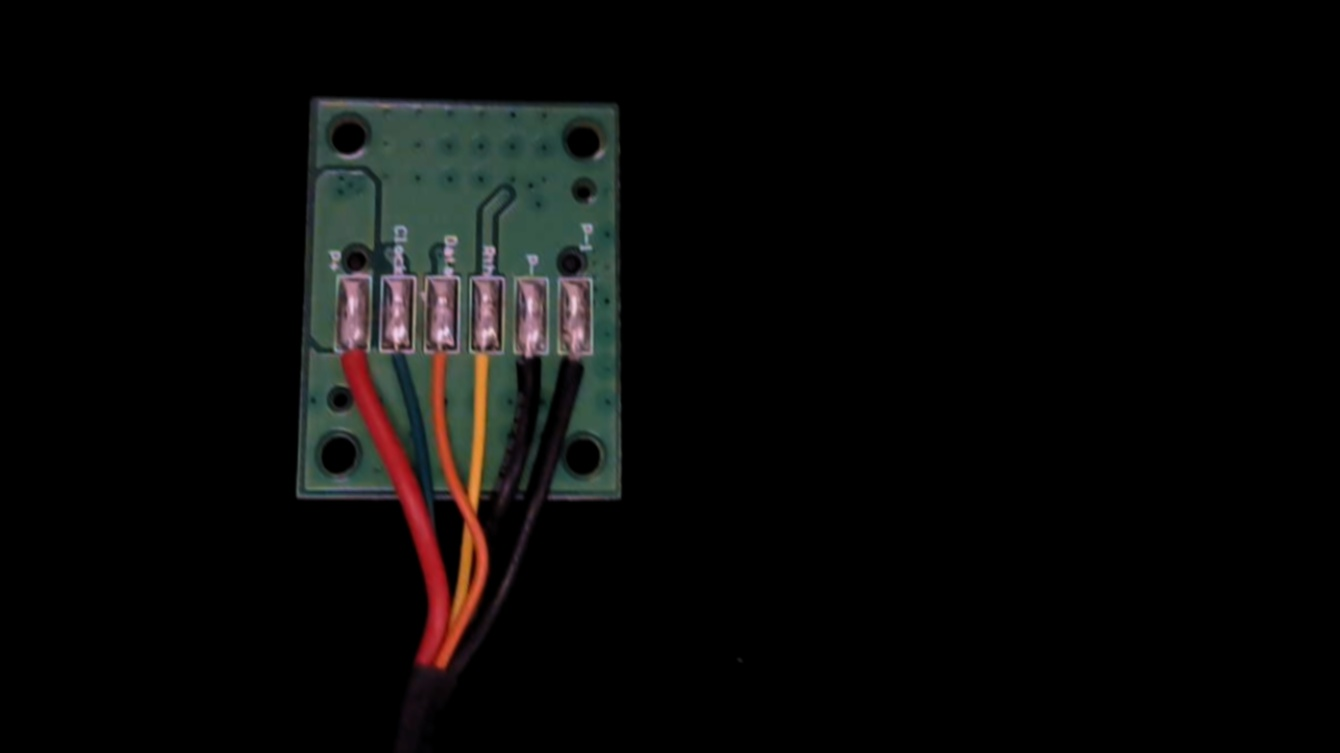Black: (510, 329, 547, 413)
Black1: (555, 330, 594, 418)
Green: (380, 328, 417, 410)
Orange: (421, 329, 456, 414)
Red: (335, 329, 371, 411)
Yellow: (469, 328, 500, 407)
